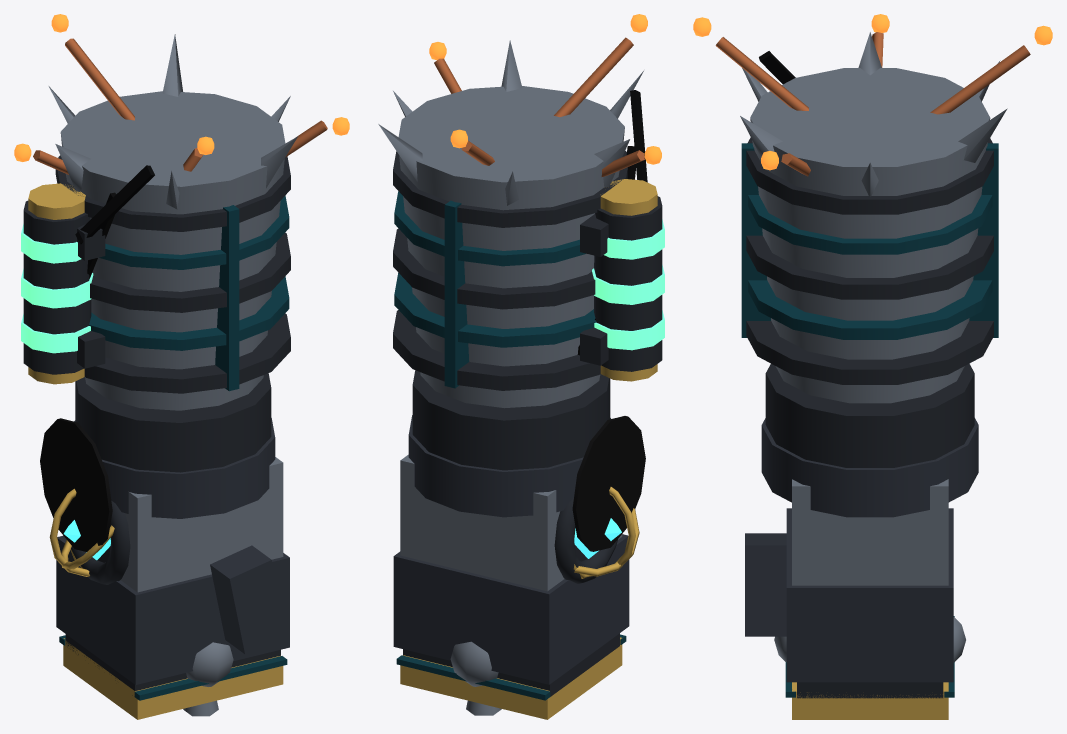
File: glove.glb
3 views of the same model, side by side, from view 1: azimuth 30°, elevation 25°; view 2: azimuth 150°, elevation 25°; view 3: azimuth 270°, elevation 25° (orthographic). The views are drawn at different scales.
Visible parts, largest first — view 1: guard_main, fist_block, cuff, palm, wrist_wrap, singe, cell_body, thumb, guard_rib_0.1, plate_body, guard_rib_0.19, glow_ring_0.145 (+21 smaller); view 2: guard_main, fist_block, cuff, palm, wrist_wrap, singe, cell_body, guard_rib_0.1, guard_rib_0.19, plate_body, guard_rib_0.28, glow_ring_0.145 (+21 smaller); view 3: guard_main, fist_block, cuff, palm, wrist_wrap, guard_rib_0.1, guard_rib_0.19, glow_ring_0.145, guard_rib_0.28, glow_ring_0.235, thumb, plate_body (+7 smaller).
Part boxes in pixels (bbox=[...]): guard_main: bbox=[60, 91, 285, 410]; fist_block: bbox=[56, 536, 289, 684]; cuff: bbox=[75, 373, 271, 472]; palm: bbox=[63, 457, 283, 592]; wrist_wrap: bbox=[74, 418, 275, 518]; singe: bbox=[40, 418, 112, 551]; cell_body: bbox=[23, 200, 91, 374]; thumb: bbox=[210, 545, 286, 654]; guard_rib_0.1: bbox=[84, 313, 290, 393]; plate_body: bbox=[63, 638, 283, 719]; guard_rib_0.19: bbox=[90, 232, 290, 312]; glow_ring_0.145: bbox=[89, 276, 289, 350]; guard_main: bbox=[398, 86, 624, 408]; fist_block: bbox=[393, 534, 629, 684]; cuff: bbox=[412, 370, 610, 470]; palm: bbox=[400, 454, 622, 591]; wrist_wrap: bbox=[408, 415, 610, 517]; singe: bbox=[572, 416, 645, 551]; cell_body: bbox=[594, 196, 662, 371]; guard_rib_0.1: bbox=[393, 310, 600, 390]; guard_rib_0.19: bbox=[393, 228, 595, 309]; plate_body: bbox=[400, 637, 622, 719]; guard_rib_0.28: bbox=[393, 150, 627, 227]; glow_ring_0.145: bbox=[394, 273, 596, 347]; guard_main: bbox=[750, 68, 990, 403]; fist_block: bbox=[786, 508, 953, 682]; cuff: bbox=[765, 363, 974, 467]; palm: bbox=[792, 479, 948, 585]; wrist_wrap: bbox=[761, 418, 978, 517]; guard_rib_0.1: bbox=[746, 321, 993, 384]; guard_rib_0.19: bbox=[746, 235, 993, 299]; glow_ring_0.145: bbox=[748, 280, 992, 339]; guard_rib_0.28: bbox=[746, 137, 993, 214]; glow_ring_0.235: bbox=[748, 195, 992, 254]; thumb: bbox=[745, 533, 786, 636]; plate_body: bbox=[792, 682, 948, 719].
Size of the model in its own units: 0.33 by 0.693 by 0.3444.
